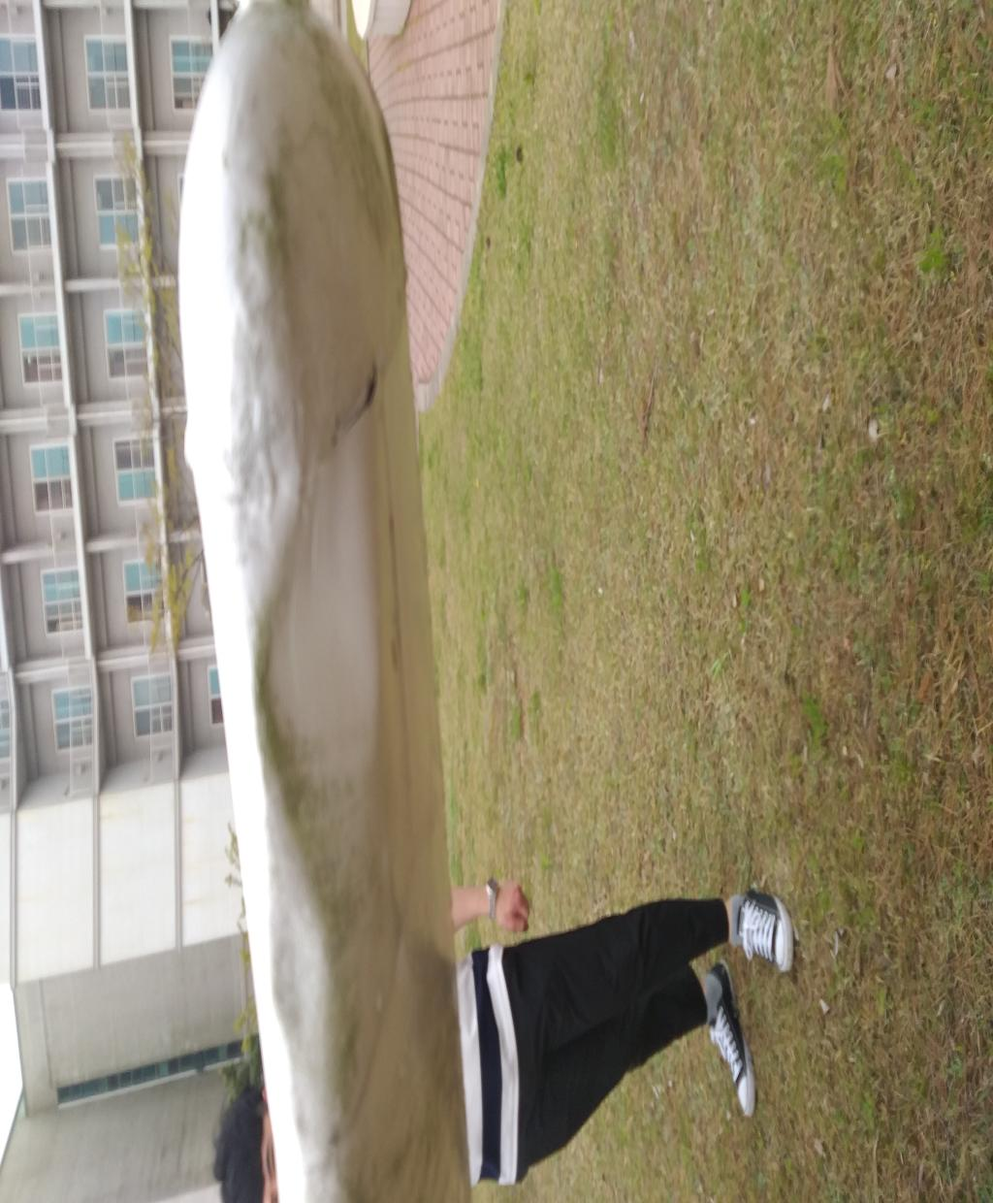dent: (178, 539, 354, 834), (71, 563, 147, 704)
